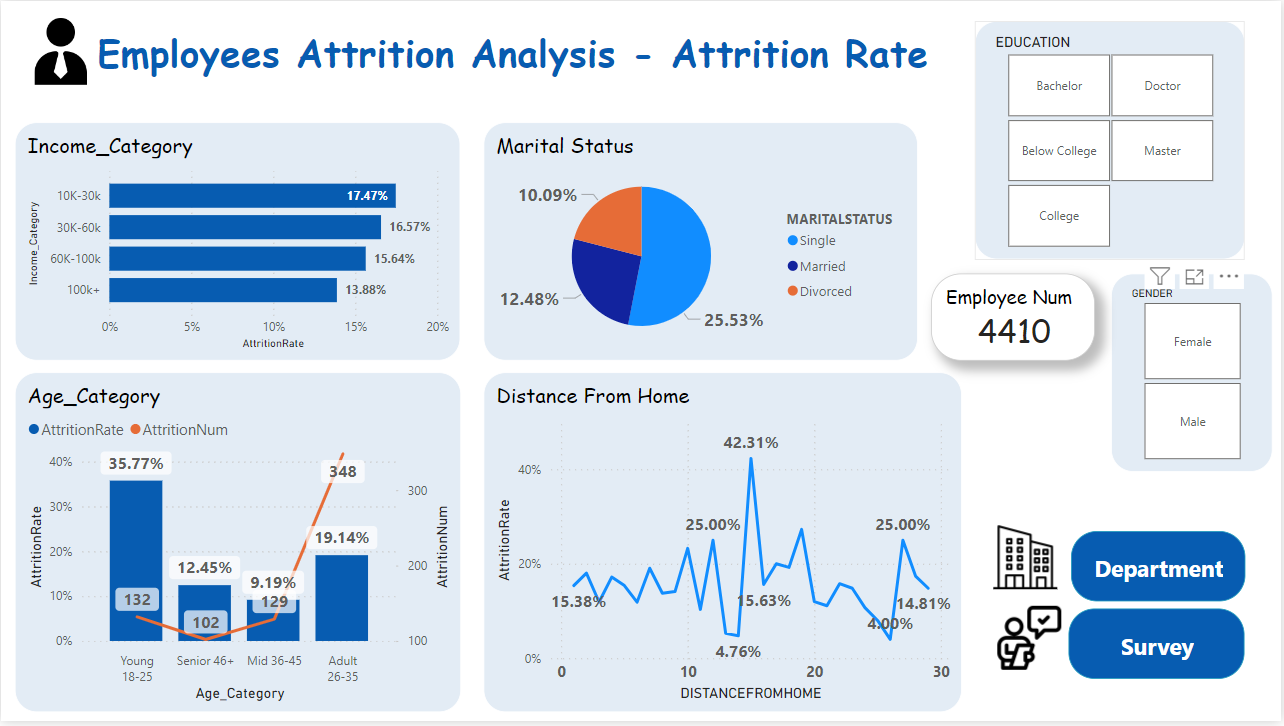

Layout of this report page (visuals, bound fields, positions):
{"tool":"powerbi","page":{"name":"Employee","canvas":[1280,720],"ordinal":1},"visuals":[{"type":"lineChart","title":"Distance From Home","fields":{"Category":["Employee_Dim.DISTANCEFROMHOME"],"Y":["Measure_table.AttritionRate"]},"box":[482.9,371.4,478.6,340],"z":0},{"type":"textbox","box":[91.4,20,978.6,72.9],"z":1000},{"type":"image","box":[14.3,7.1,91.4,85.7],"z":2000},{"type":"barChart","title":"Income_Category","fields":{"Category":["Employee_Dim.Income_Category"],"Y":["Measure_table.AttritionRate"]},"box":[14.3,121.4,445.7,238.6],"z":3000},{"type":"slicer","fields":{"Values":["Employee_Dim.GENDER"]},"box":[1110,272.9,161.4,198.6],"z":4000},{"type":"slicer","fields":{"Values":["Employee_Dim.EDUCATION"]},"box":[974.3,20,270,238.6],"z":5000},{"type":"actionButton","box":[1068,608,176,70],"z":6000},{"type":"image","box":[988,516,74,80],"z":7000},{"type":"image","box":[988,600,82,74],"z":8000},{"type":"pieChart","title":"Marital Status","fields":{"Category":["Employee_Dim.MARITALSTATUS"],"Y":["Measure_table.AttritionRate"]},"box":[482.9,121.4,434.3,238.6],"z":9000},{"type":"lineClusteredColumnComboChart","title":"Age_Category","fields":{"Category":["Employee_Dim.Age_Category"],"Y":["Measure_table.AttritionRate"],"Y2":["Measure_table.AttritionNum"]},"box":[14,371,446,340],"z":10000},{"type":"actionButton","box":[1070,530,174,70],"z":11000},{"type":"card","title":"Employee Num","fields":{"Values":["CountNonNull(Attrition_Fact.ATTRITION)"]},"box":[930,272.9,164.3,87.1],"z":12000}]}

Visuals, with their boxes in screenshot pixels (x1, y1, x2, y2), scaled from the page's 1280x720 canvas onto the 1284x726 screenshot:
"Distance From Home" lineChart: box=[484, 374, 965, 717]
textbox: box=[92, 20, 1073, 94]
image: box=[14, 7, 106, 94]
"Income_Category" barChart: box=[14, 122, 461, 363]
slicer - Employee_Dim.GENDER: box=[1113, 275, 1275, 475]
slicer - Employee_Dim.EDUCATION: box=[977, 20, 1248, 261]
actionButton: box=[1071, 613, 1248, 684]
image: box=[991, 520, 1065, 601]
image: box=[991, 605, 1073, 680]
"Marital Status" pieChart: box=[484, 122, 920, 363]
"Age_Category" lineClusteredColumnComboChart: box=[14, 374, 461, 717]
actionButton: box=[1073, 534, 1248, 605]
"Employee Num" card: box=[933, 275, 1098, 363]
